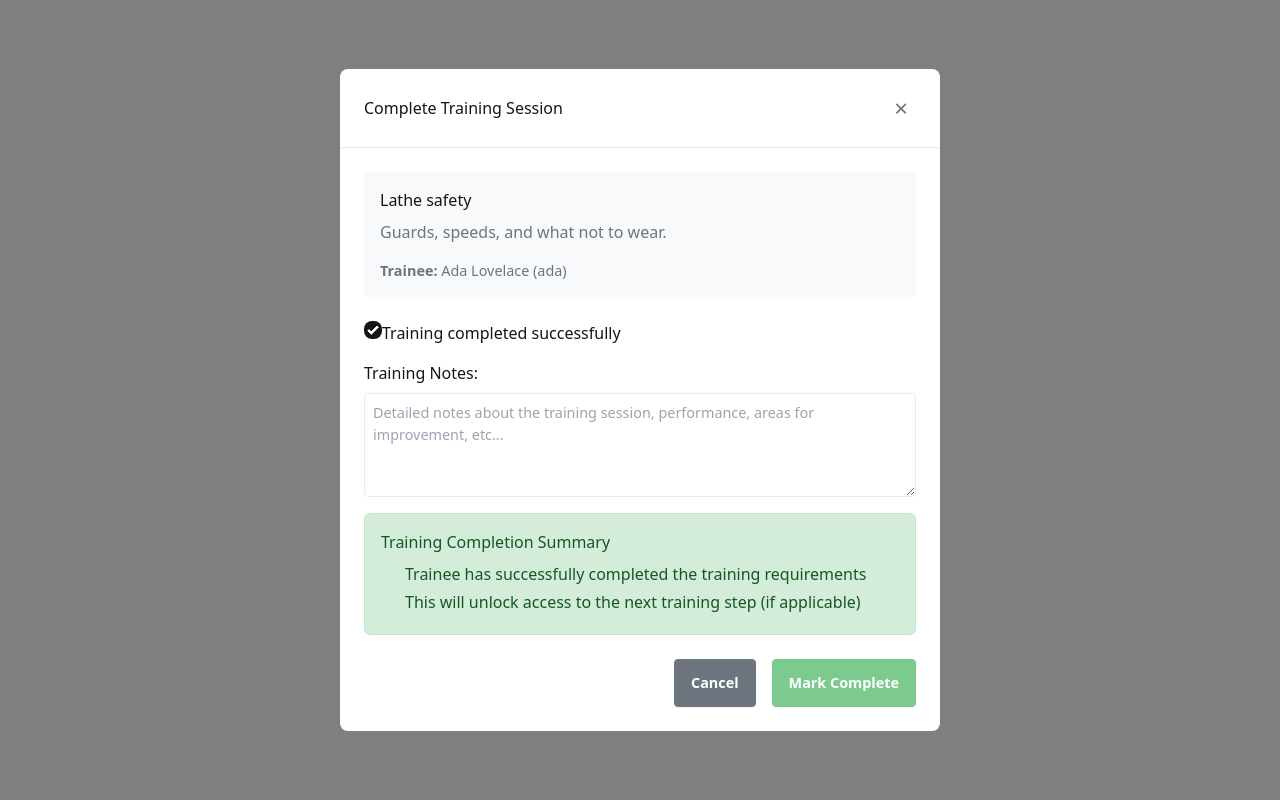
Test case: what happens after the request › falls back to a generic message when a refusal carries none
Replace the text in the text box with id "notes" with "Signed off." at x=640, y=445, box [364,393,916,497]
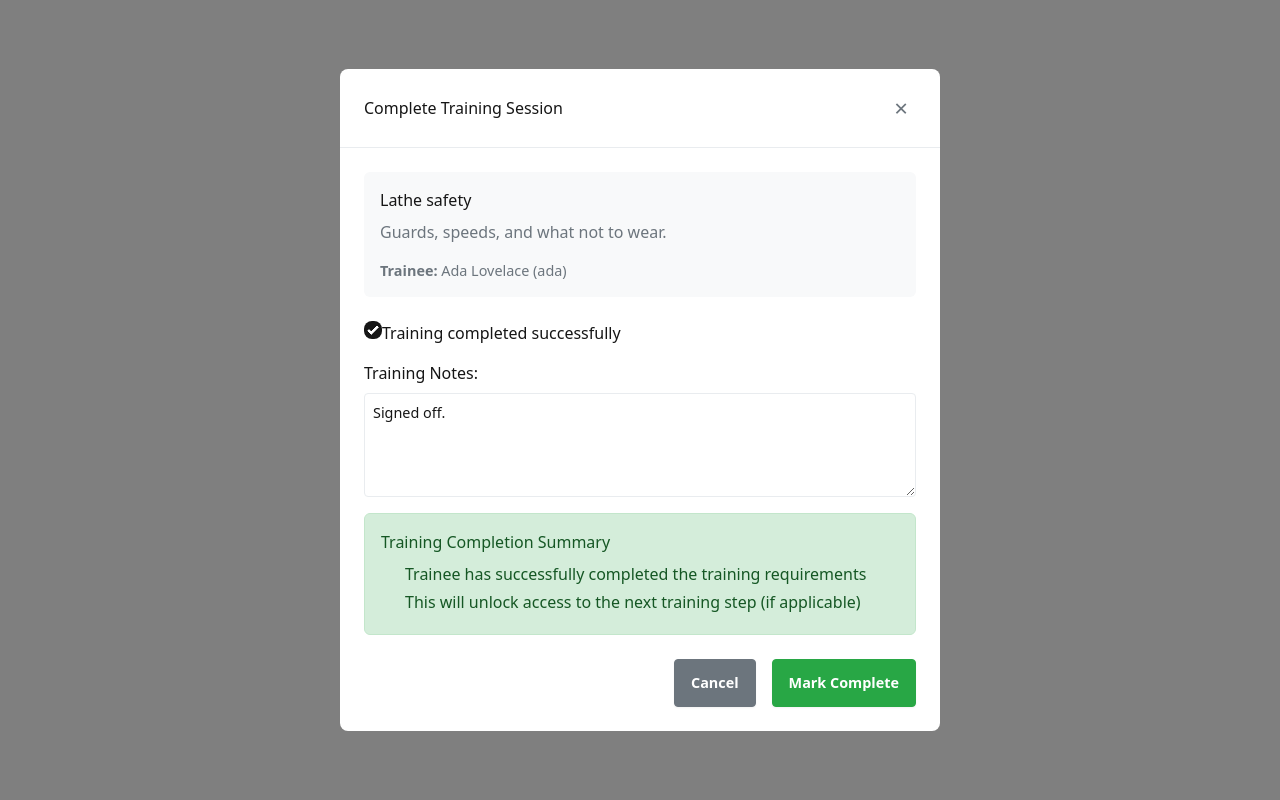
Submit the form, box [364,321,916,707]
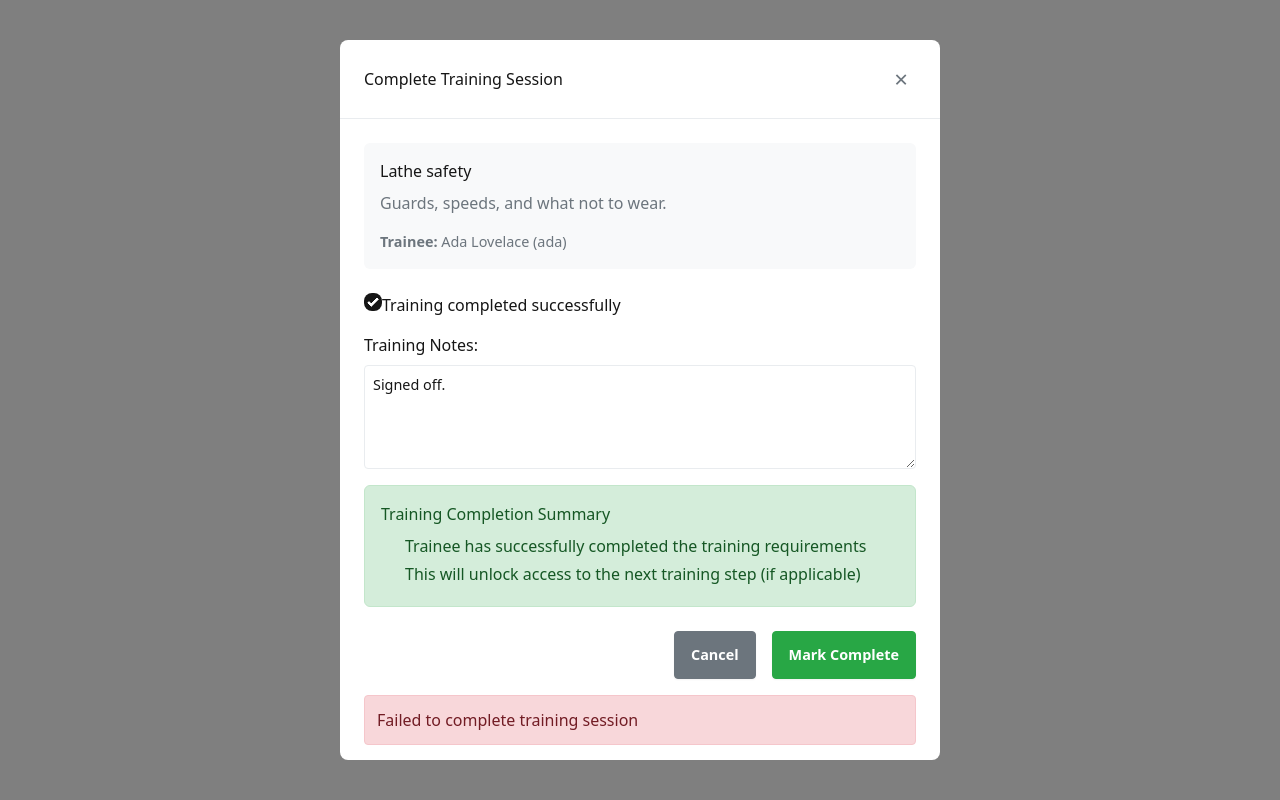
Expected: the text with class "error-message" reads "Failed to complete training session", [377,709,638,731]
